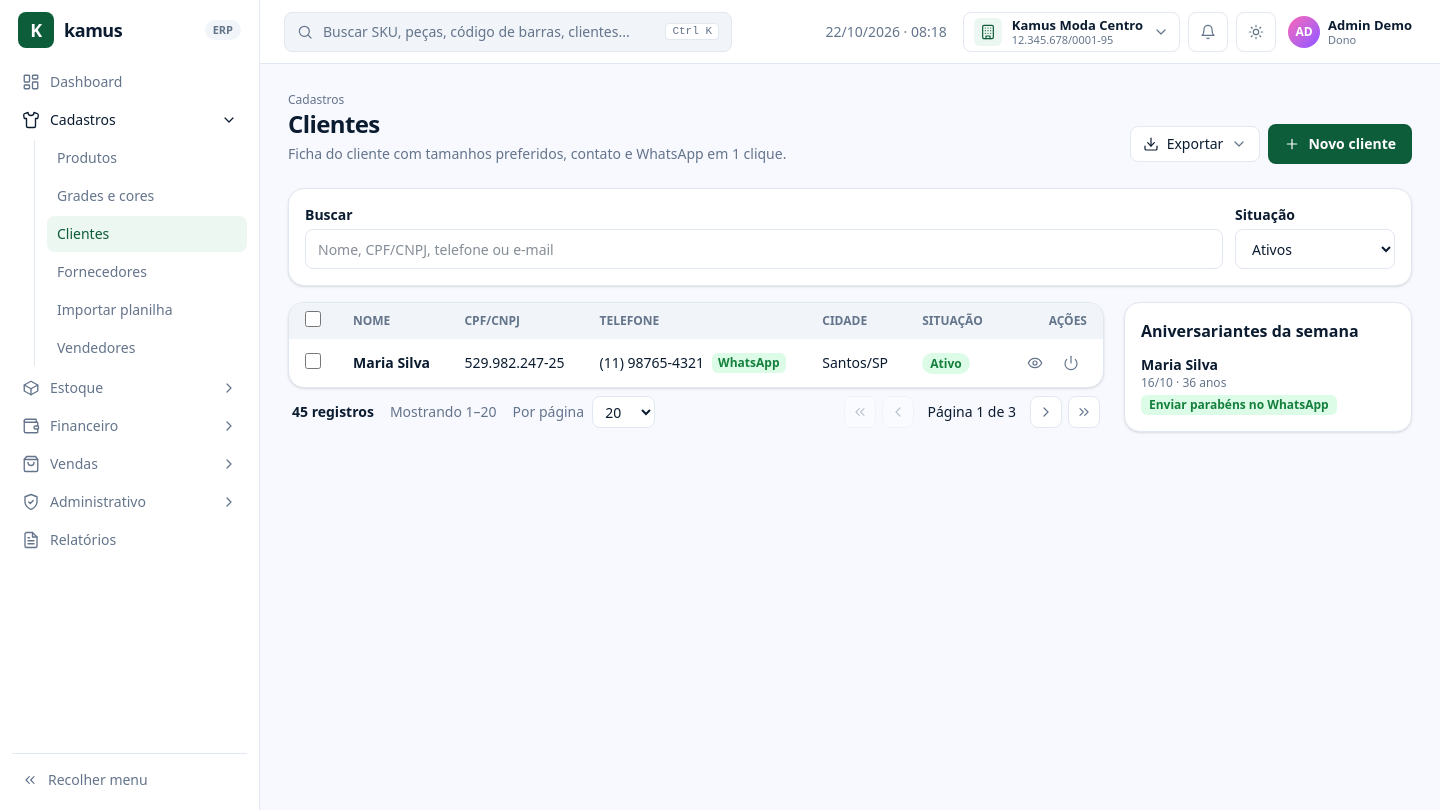
Test case: Cadastros → Clientes › busca e situação vão para a API, voltam à página 1 e limpar filtros restaura
This screenshot has width=1440, height=810.
Expected: the cell "Maria Silva" is shown, x1=337 y1=339 x2=448 y2=387
Step 1. Click the button named "Próxima página" → (1046, 412), box x1=1030 y1=396 x2=1062 y2=428
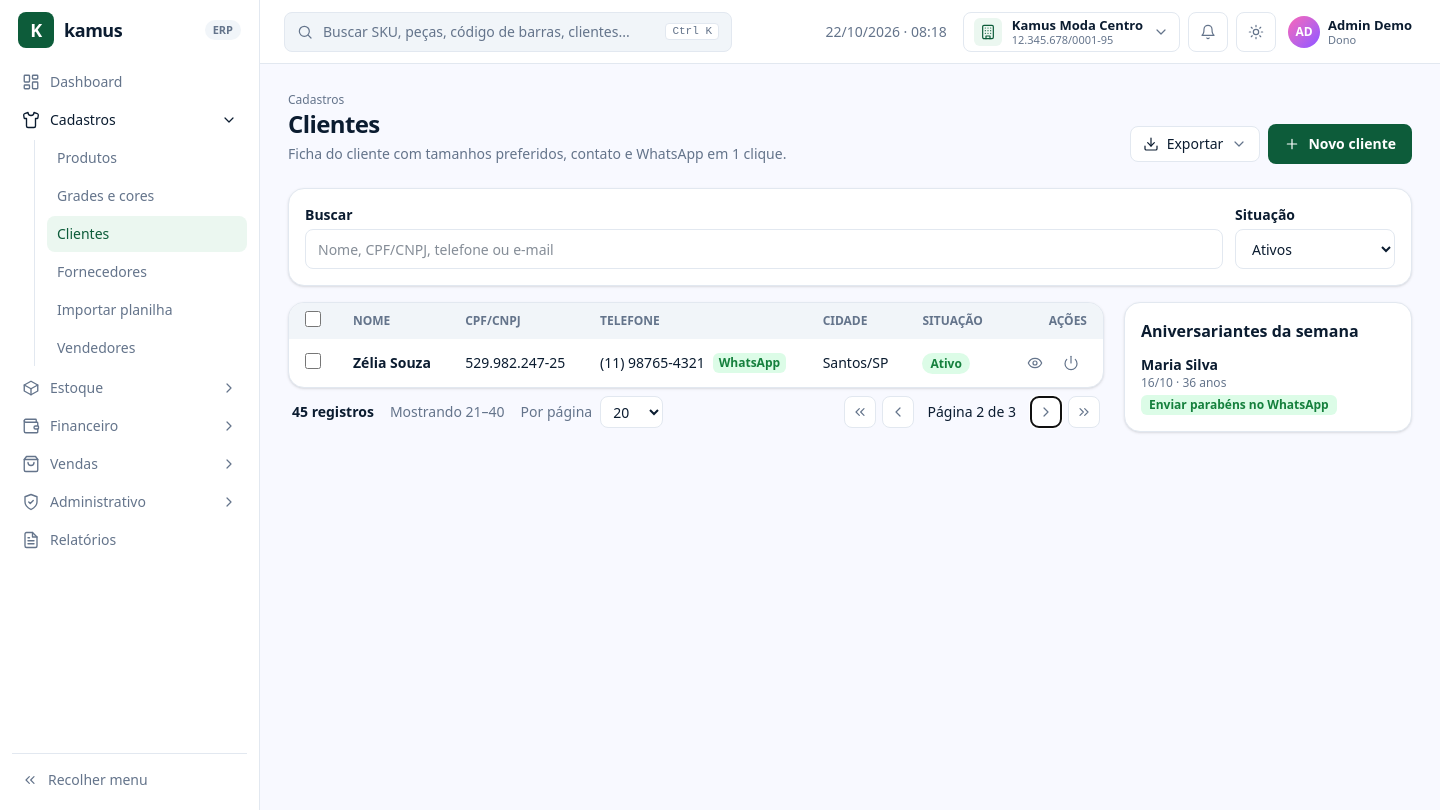
Now the cell "Zélia Souza" is shown, box x1=337 y1=339 x2=449 y2=387
Now the text "Página 2 de 3" is shown, box x1=928 y1=402 x2=1016 y2=421
Step 2. Type "joao" into the field labelled "Buscar" → (764, 249), box x1=305 y1=229 x2=1223 y2=269
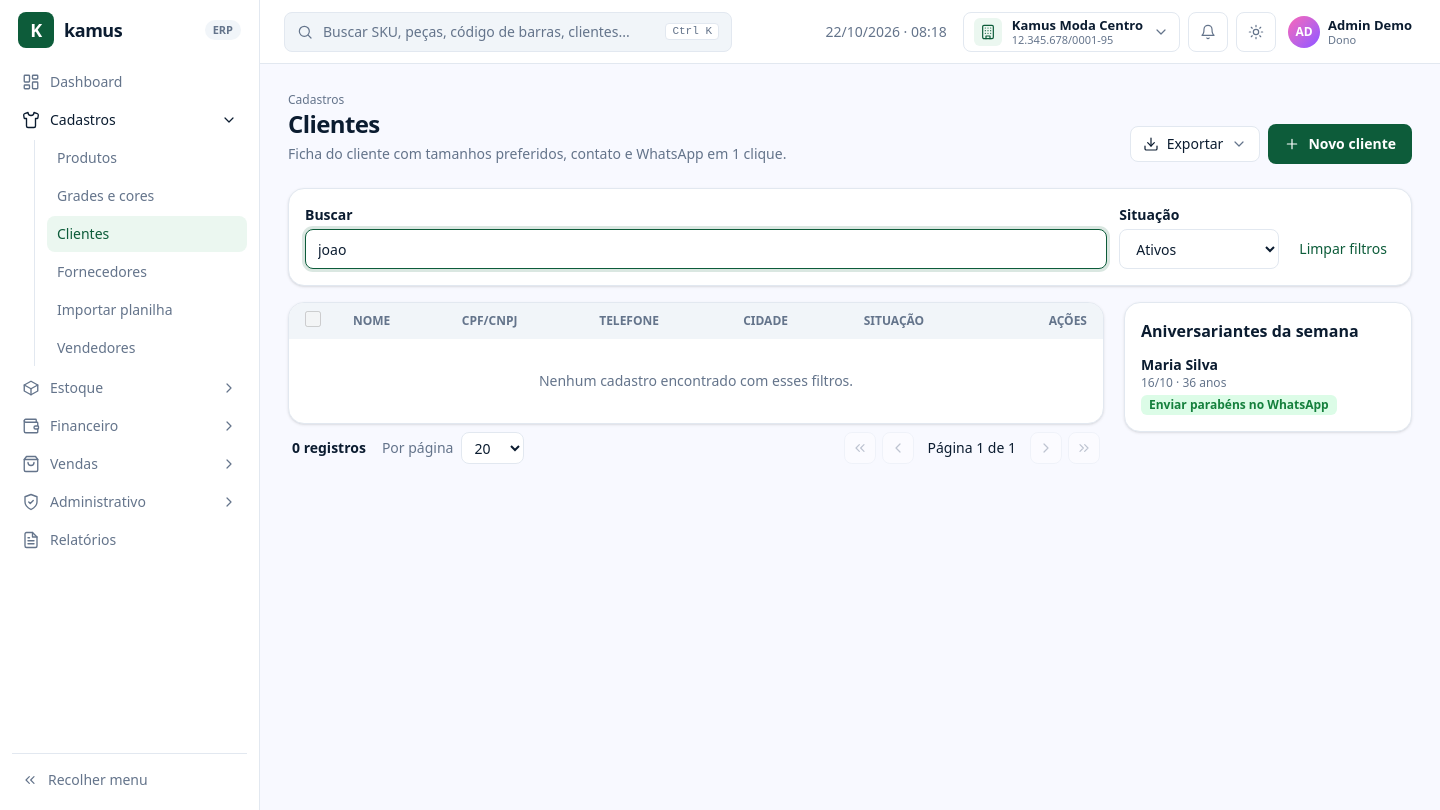
Now the text "Nenhum cadastro encontrado com esses filtros." is shown, box x1=289 y1=339 x2=1103 y2=423
Step 3. Select "Inativos" in the dropdown labelled "Situação" → (1199, 249), box x1=1119 y1=229 x2=1279 y2=269
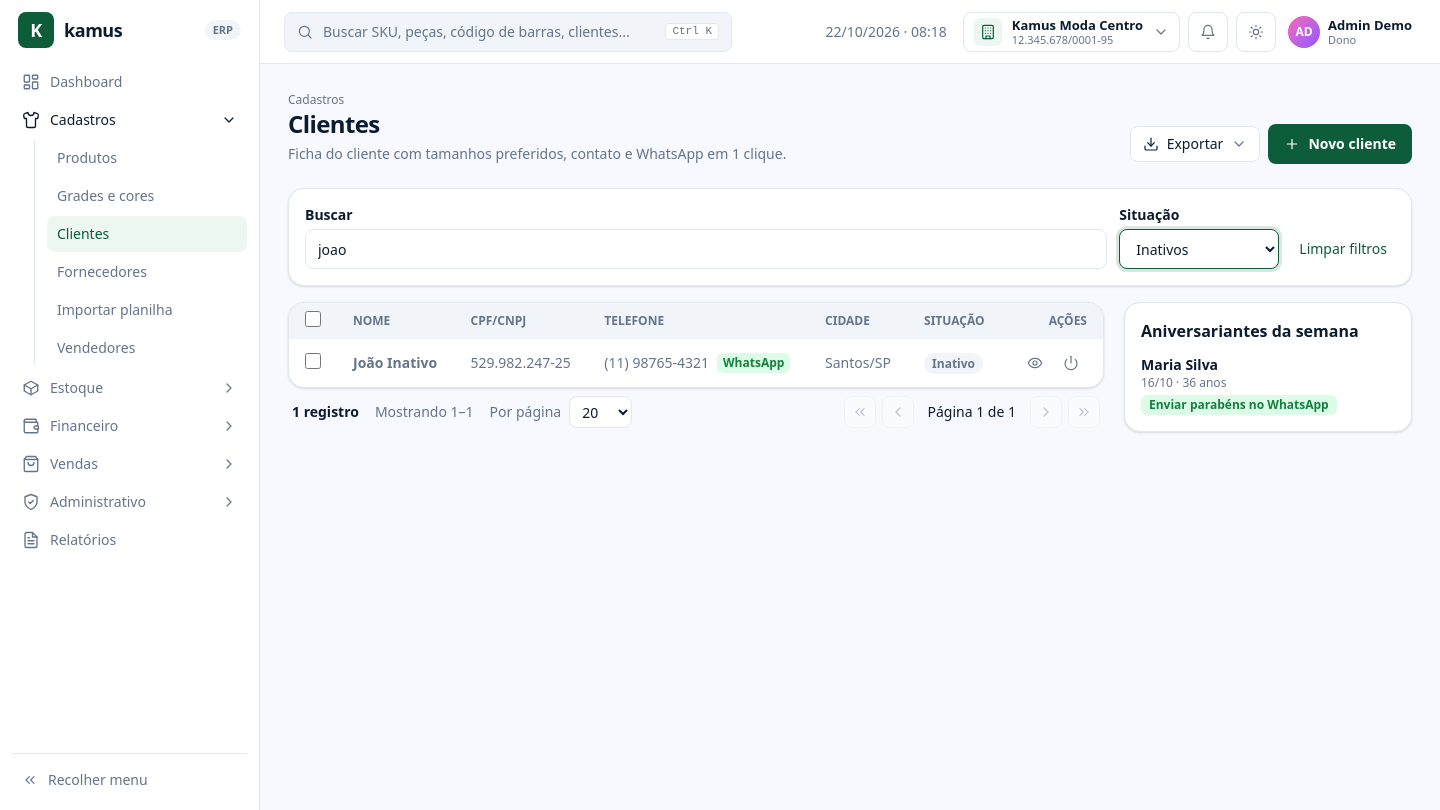
Now the text "Inativo" is shown, box x1=924 y1=353 x2=983 y2=374
Step 4. Click the button "Limpar filtros" → (1343, 249), box x1=1291 y1=229 x2=1395 y2=269
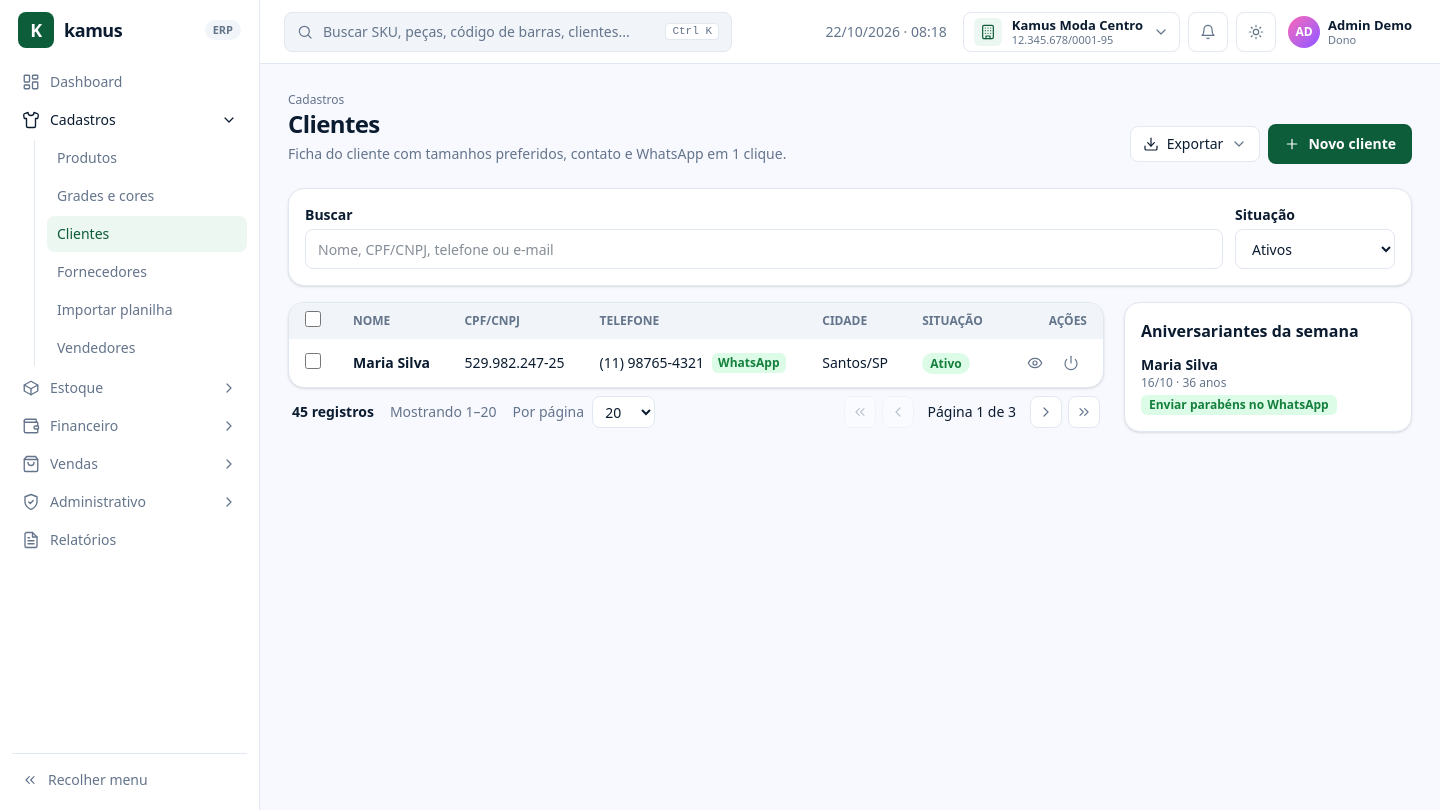
Now the cell "Maria Silva" is shown, box x1=337 y1=339 x2=448 y2=387
Now the field labelled "Buscar" is empty, box x1=305 y1=229 x2=1223 y2=269
